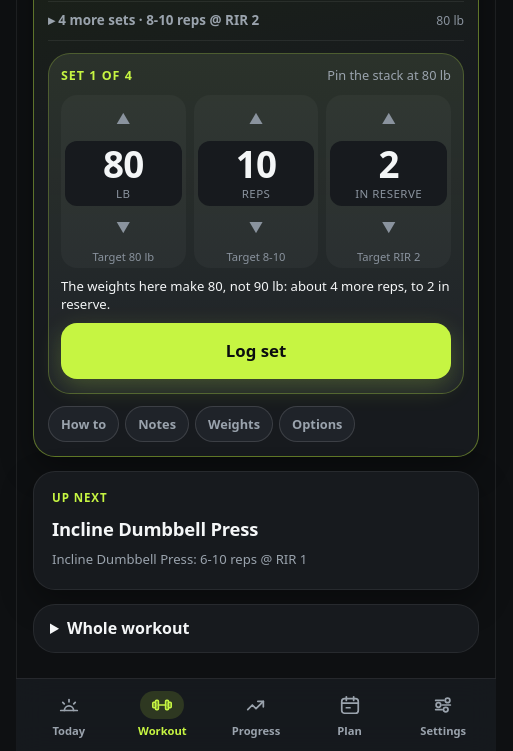
Test: a machine switched to plates and back in a workout (the review) › gets its recorded stack back after the Weights tab was closed and opened
(page scrolled)
Click the tab with test id "plates-tab". click: (234, 424)
box: [195,406,273,442]
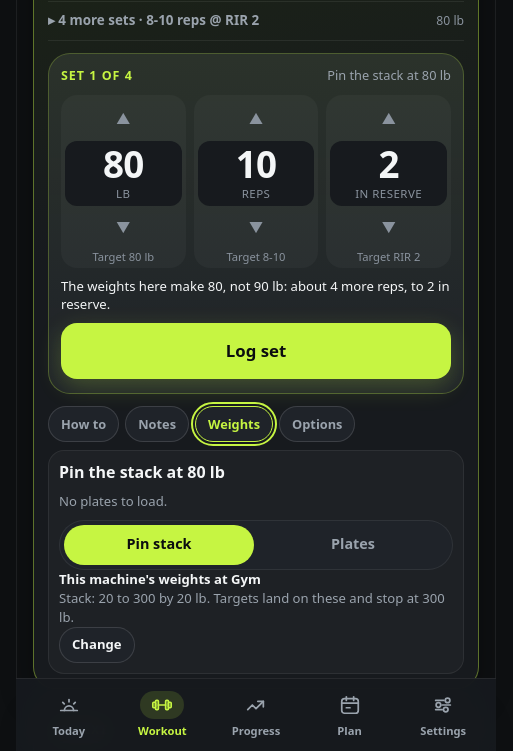
Click the button with test id "machine-load-plates". click: (353, 544)
box: [258,524,448,564]
(page scrolled)
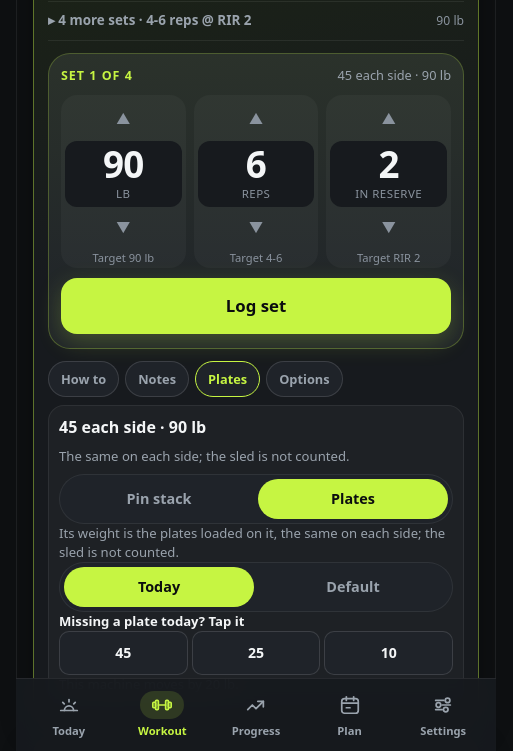
Expected: the tab with test id "plates-tab" reads "Plates"
# Closed and opened again, as between sets.
Click the tab with test id "plates-tab". click: (228, 379)
box: [195,361,260,397]
(page scrolled)
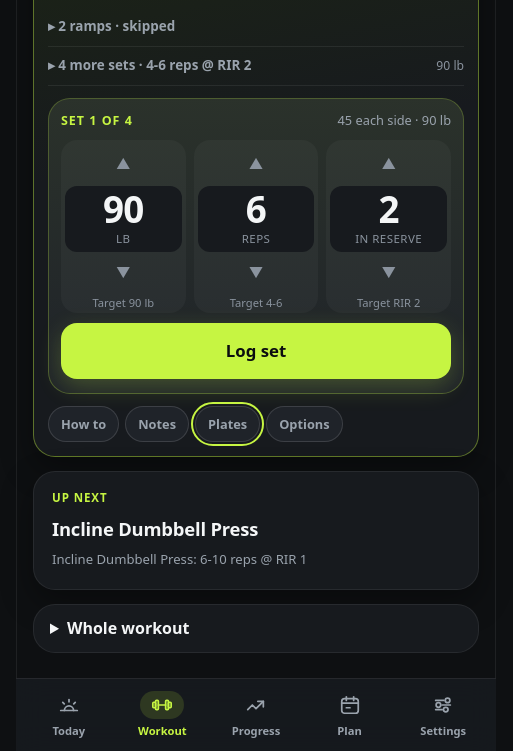
Click the tab with test id "plates-tab". click: (228, 424)
box: [195,406,260,442]
(page scrolled)
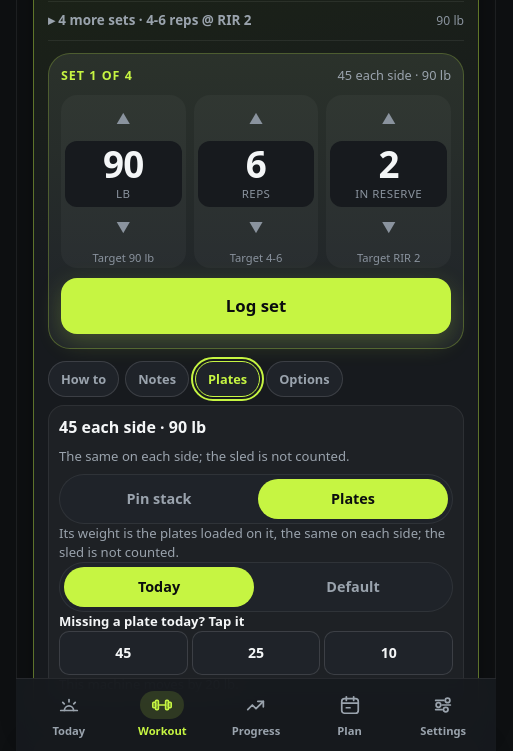
Click the button with test id "machine-load-stack". click: (159, 499)
box: [64,479,254,519]
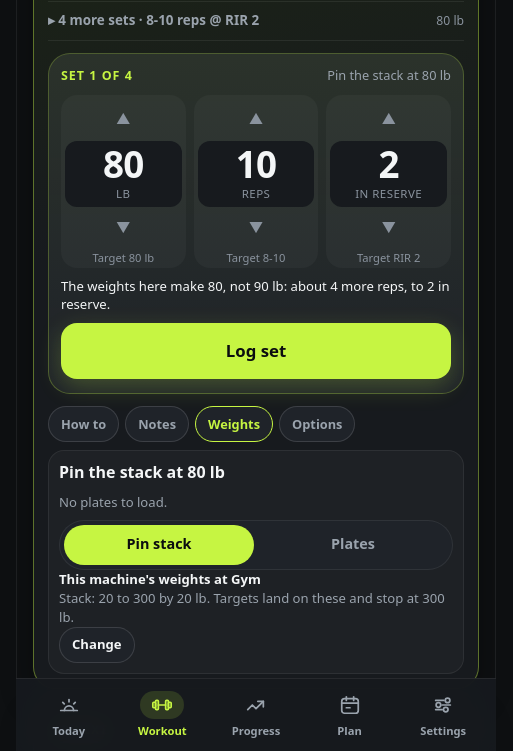
Expected: the tab with test id "plates-tab" reads "Weights", [195,406,273,442]
